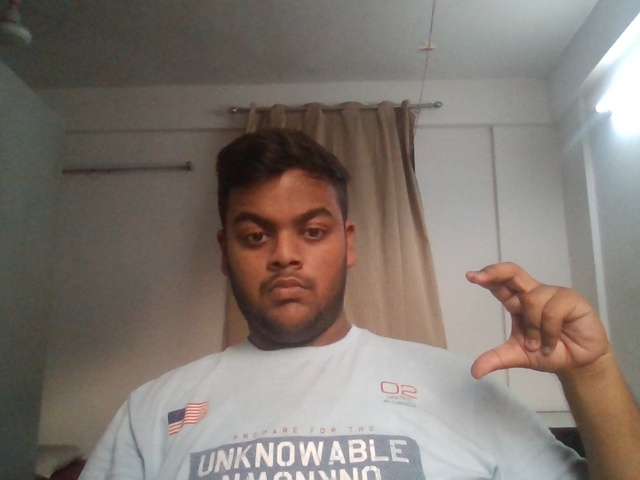No: (437, 247, 634, 397)
